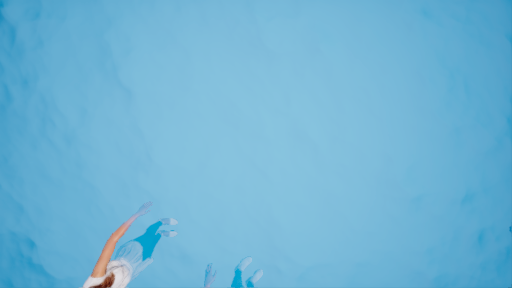person: (76, 203, 190, 285)
